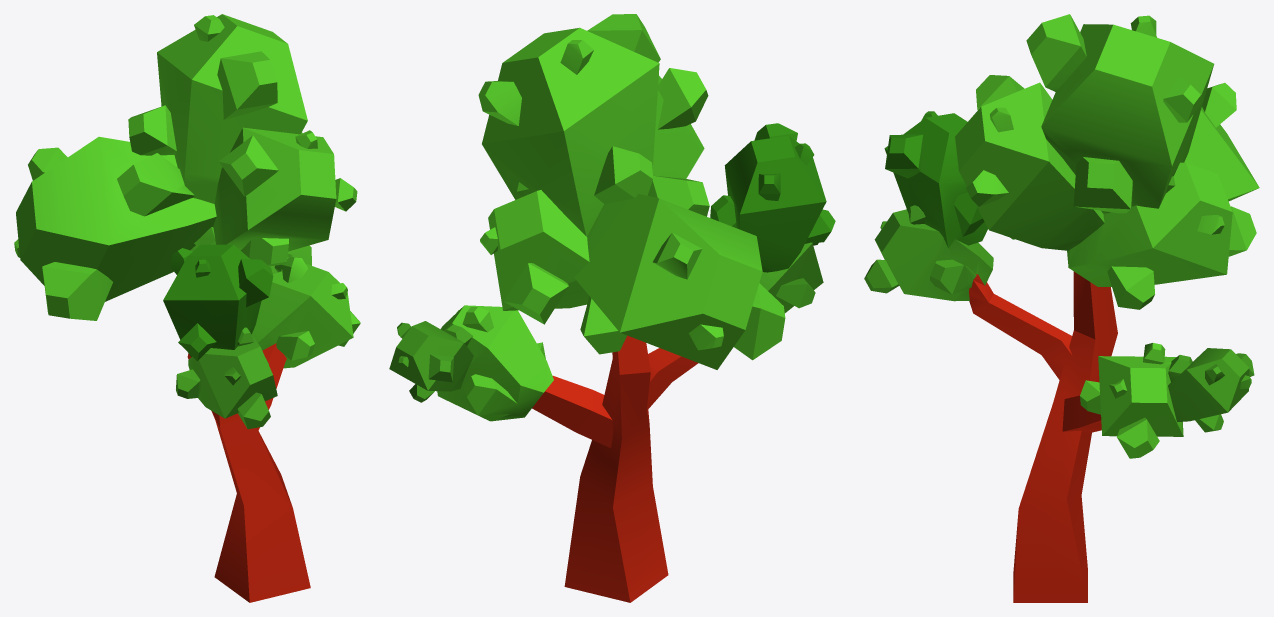
The model's file is tree.glb.
3 views of the same model, side by side, from view 1: azimuth 30°, elevation 25°; view 2: azimuth 150°, elevation 25°; view 3: azimuth 270°, elevation 25° (orthographic). The views are drawn at different scales.
Parts seen in each view (by area): view 1: Tree.1; view 2: Tree.1; view 3: Tree.1.
Part boxes in pixels (x1,y1,x2,y2): Tree.1: (14,14,360,602); Tree.1: (389,14,835,602); Tree.1: (864,14,1259,602).
Size of the model in its own units: 1059 by 1673 by 1060.
